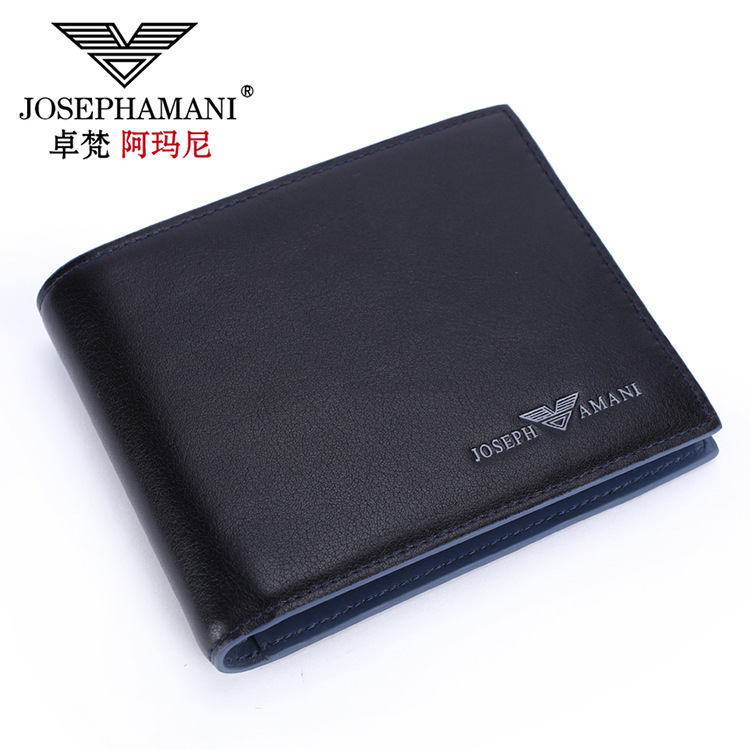monedero: (32, 101, 724, 682)
